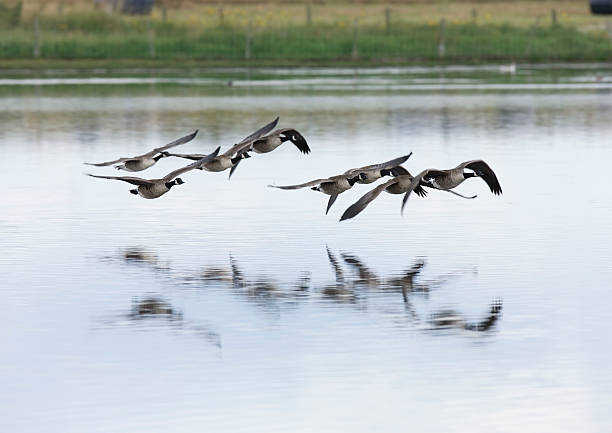goose: (406, 156, 509, 221), (300, 165, 375, 217), (188, 146, 254, 179), (111, 142, 175, 174), (124, 170, 183, 204), (252, 124, 312, 155), (378, 175, 436, 201), (342, 164, 406, 185)
